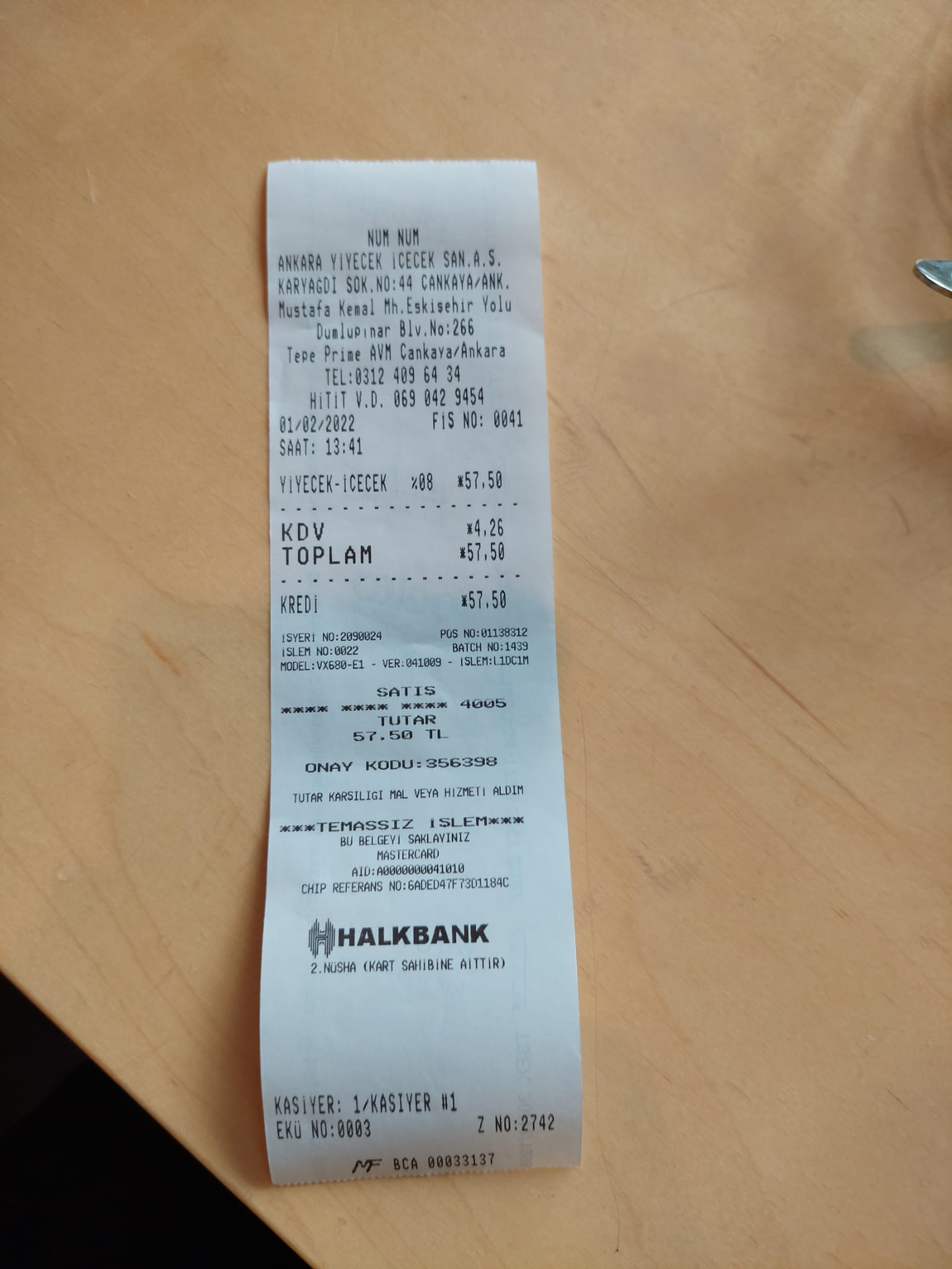date: (466, 540, 511, 566)
price: (276, 412, 363, 436)
workplace: (271, 226, 522, 342)
